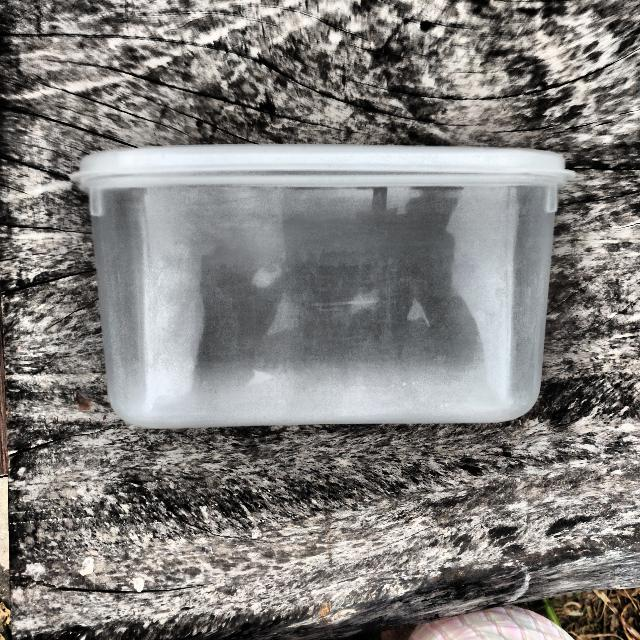plastic container: (41, 138, 570, 446)
